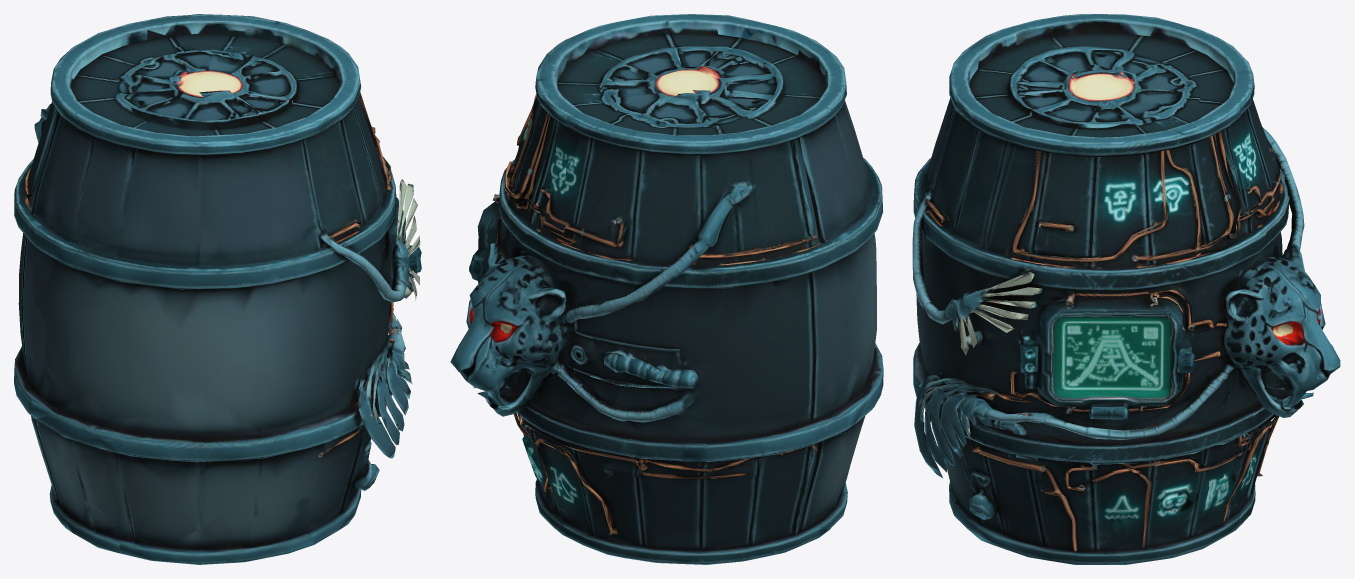
The model's file is BARRIL_FBX.fbx.
3 views of the same model, side by side, from view 1: azimuth 30°, elevation 25°; view 2: azimuth 150°, elevation 25°; view 3: azimuth 270°, elevation 25° (orthographic).
Parts seen in each view (by area): view 1: tripo_convert_fa5aba88_da1a_4a67_9166_9e8d222a652b:Mesh; view 2: tripo_convert_fa5aba88_da1a_4a67_9166_9e8d222a652b:Mesh; view 3: tripo_convert_fa5aba88_da1a_4a67_9166_9e8d222a652b:Mesh.
Boxes of the visible parts, x1=… form: tripo_convert_fa5aba88_da1a_4a67_9166_9e8d222a652b:Mesh: x1=14, y1=14, x2=421, y2=564; tripo_convert_fa5aba88_da1a_4a67_9166_9e8d222a652b:Mesh: x1=450, y1=14, x2=883, y2=564; tripo_convert_fa5aba88_da1a_4a67_9166_9e8d222a652b:Mesh: x1=912, y1=14, x2=1340, y2=564.
Size of the model in its own units: 34.46 by 39.74 by 36.54.
Materials: 1 (1 with a texture image).
